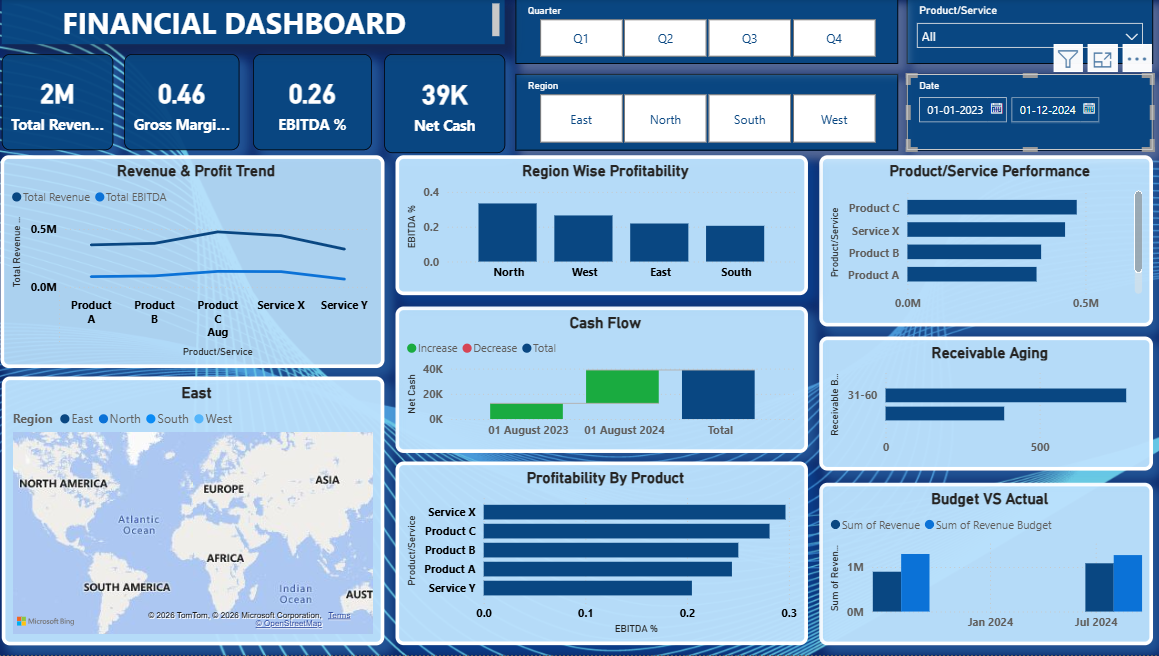

The page's visual inventory and layout, read from the dashboard file:
{"tool":"powerbi","page":{"name":"Page 1","canvas":[1280,720],"ordinal":0},"visuals":[{"type":"card","fields":{"Values":["Data financial report.Total Revenue"]},"box":[9.6,60.4,122.1,105.7],"z":0},{"type":"card","fields":{"Values":["Data financial report.Gross Margin %"]},"box":[144.1,60.4,126.2,105.7],"z":1000},{"type":"card","fields":{"Values":["Data financial report.EBITDA %"]},"box":[285.4,60.4,130.4,105.7],"z":2000},{"type":"card","fields":{"Values":["Data financial report.Net Cash"]},"box":[429.5,60.4,133.1,108.4],"z":3000},{"type":"slicer","fields":{"Values":["Date Table.Date"]},"box":[1003.1,82.3,270.3,83.7],"z":4000},{"type":"lineChart","title":"Revenue & Profit Trend","fields":{"Y":["Data financial report.Total Revenue","Data financial report.Total EBITDA"],"Category":["Date Table.Month Name","Data financial report.Product/Service"]},"box":[8.2,171.5,421.3,233.3],"z":5000},{"type":"clusteredColumnChart","title":"Budget VS Actual","fields":{"Y":["Sum(Data financial report.Revenue)","Sum(Data financial report.Revenue Budget)"],"Category":["Data financial report.Month"]},"box":[907,531,366.4,178.4],"z":6000},{"type":"barChart","title":"Product/Service Performance","fields":{"Category":["Data financial report.Product/Service"],"Y":["Sum(Data financial report.Revenue)"]},"box":[907,171.5,366.4,188],"z":7000},{"type":"barChart","title":"Receivable Aging ","fields":{"Category":["Data financial report.Receivable Bucket"],"Y":["Sum(Data financial report.Receivables Aging (Days))"]},"box":[907,370.5,366.4,146.8],"z":8000},{"type":"waterfallChart","title":"Cash Flow","fields":{"Category":["Data financial report.Month"],"Y":["Data financial report.Net Cash"]},"box":[441.9,337.6,452.8,160.5],"z":9000},{"type":"slicer","fields":{"Values":["Data financial report.Region"]},"box":[573.6,82.3,419.9,83.7],"z":10000},{"type":"slicer","fields":{"Values":["Data financial report.Product/Service"]},"box":[1003.1,0,270.3,71.4],"z":11000},{"type":"slicer","fields":{"Values":["Date Table.Quarter"]},"box":[573.6,0,419.9,71.4],"z":12000},{"type":"filledMap","fields":{"Series":["Data financial report.Region"]},"box":[9.6,414.4,419.9,295],"z":13000},{"type":"textbox","box":[9.6,0,551.6,49.4],"z":14000},{"type":"clusteredBarChart","title":"Profitability By Product","fields":{"Y":["Data financial report.EBITDA %"],"Category":["Data financial report.Product/Service"]},"box":[441.9,507.7,452.8,201.7],"z":15000},{"type":"lineClusteredColumnComboChart","title":"Region Wise Profitability","fields":{"Category":["Data financial report.Region"],"Y":["Data financial report.EBITDA %"]},"box":[441.9,171.5,452.8,153.7],"z":16000}]}

Visuals, with their boxes in screenshot pixels (x1, y1, x2, y2), scaled from the page's 1280x720 canvas onto the 1159x656 screenshot:
card - Data financial report.Total Revenue: [9, 55, 119, 151]
card - Data financial report.Gross Margin %: [130, 55, 245, 151]
card - Data financial report.EBITDA %: [258, 55, 376, 151]
card - Data financial report.Net Cash: [389, 55, 509, 154]
slicer - Date Table.Date: [908, 75, 1153, 151]
"Revenue & Profit Trend" lineChart: [7, 156, 389, 369]
"Budget VS Actual" clusteredColumnChart: [821, 484, 1153, 646]
"Product/Service Performance" barChart: [821, 156, 1153, 328]
"Receivable Aging " barChart: [821, 338, 1153, 471]
"Cash Flow" waterfallChart: [400, 308, 810, 454]
slicer - Data financial report.Region: [519, 75, 900, 151]
slicer - Data financial report.Product/Service: [908, 0, 1153, 65]
slicer - Date Table.Quarter: [519, 0, 900, 65]
filledMap - Data financial report.Region: [9, 378, 389, 646]
textbox: [9, 0, 508, 45]
"Profitability By Product" clusteredBarChart: [400, 463, 810, 646]
"Region Wise Profitability" lineClusteredColumnComboChart: [400, 156, 810, 296]
